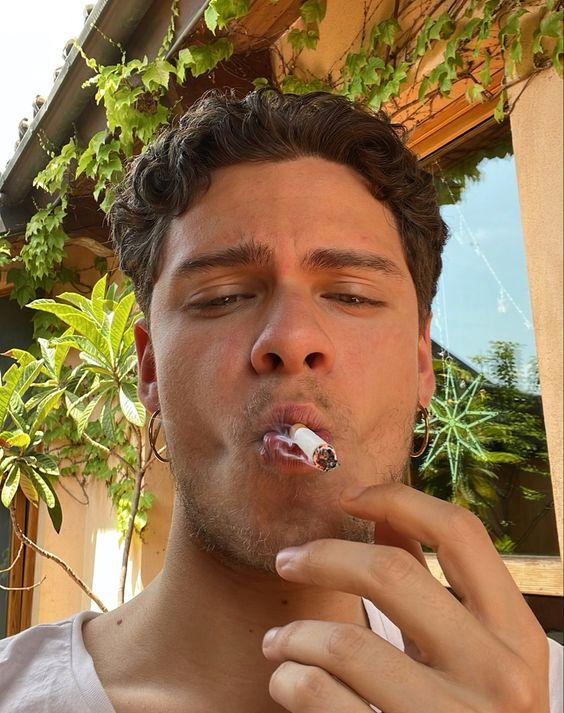cigarette: (288, 422, 337, 472)
